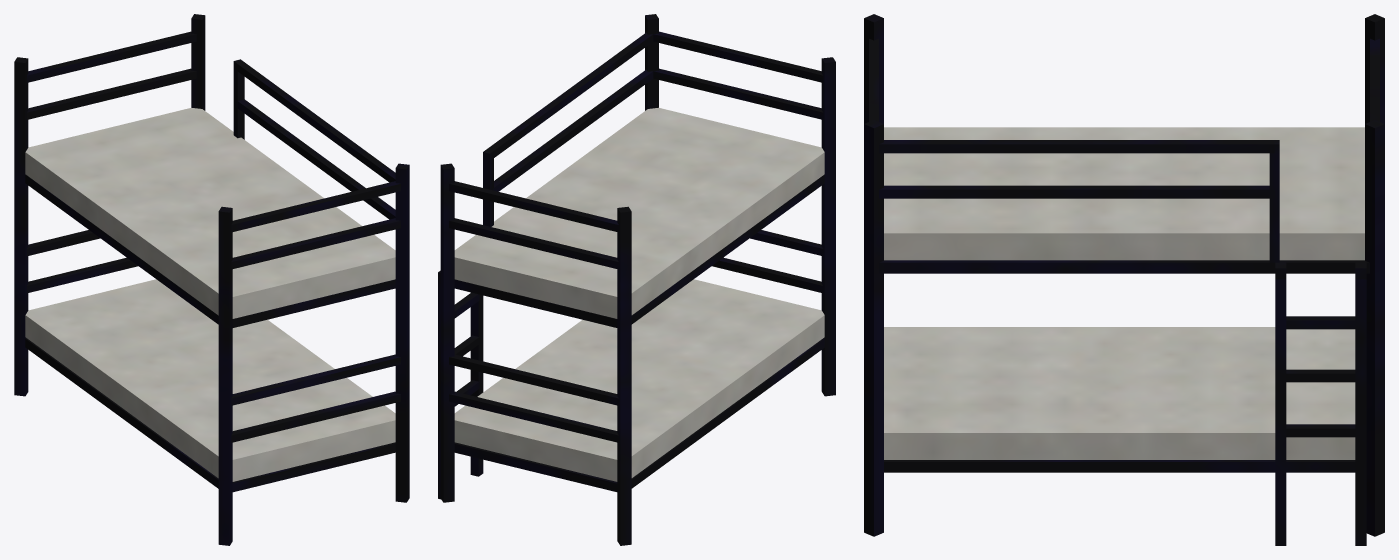
Rendered from bunk_bed.glb.
3 views of the same model, side by side, from view 1: azimuth 30°, elevation 25°; view 2: azimuth 150°, elevation 25°; view 3: azimuth 270°, elevation 25° (orthographic). The views are drawn at different scales.
Visible parts, largest first — view 1: BunkBed; view 2: BunkBed; view 3: BunkBed.
Boxes of the visible parts, x1=… form: BunkBed: x1=14, y1=14, x2=409, y2=545; BunkBed: x1=438, y1=14, x2=835, y2=545; BunkBed: x1=864, y1=14, x2=1384, y2=545.
Bounding box in the file's own units: 1.21 × 1.99 × 2.27.
Materials: 1 (1 with a texture image).
